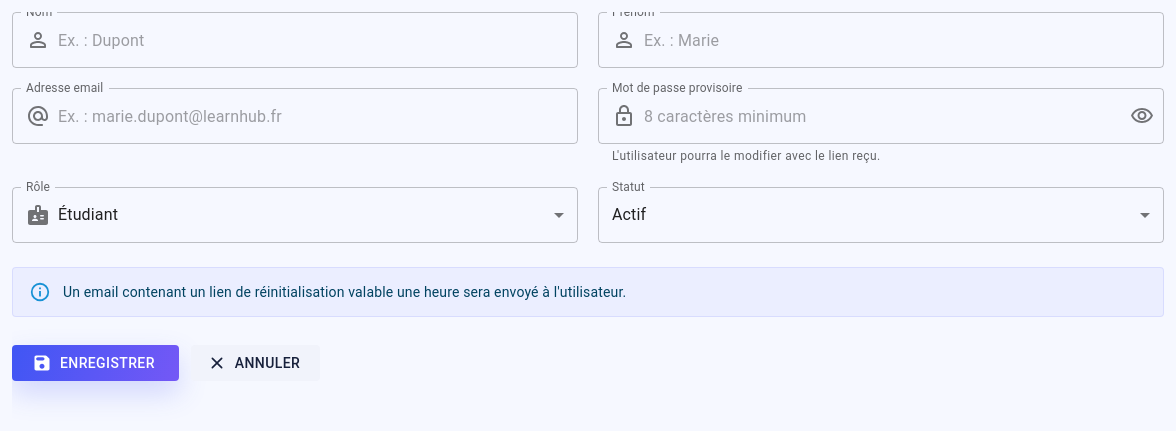
it: CreateUserForm › affiche les erreurs des champs obligatoires
Click the button "Enregistrer".
click(95, 363)  # box [12,345,179,381]
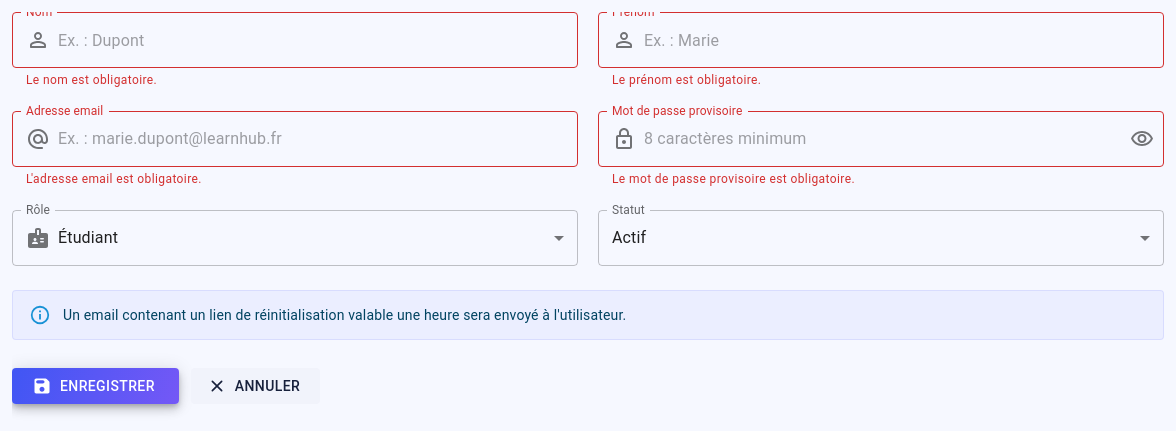
Check: the text "Le nom est obligatoire." is shown, box [26,73,157,87]
Check: the text "Le prénom est obligatoire." is shown, box [612,73,761,87]
Check: the text "L'adresse email est obligatoire." is shown, box [26,172,202,186]
